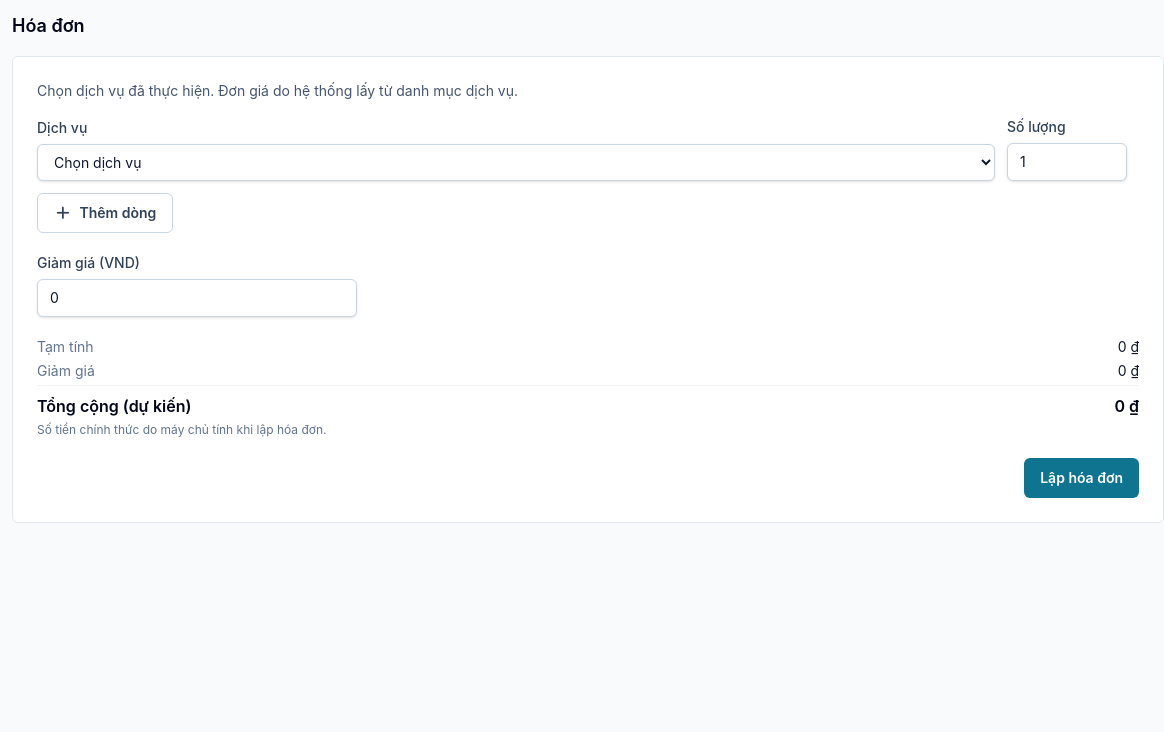
Test: EncounterInvoiceTab › lập hóa đơn lần hai (409) hiện lỗi rồi tải lại để thấy hóa đơn đã có
Select "Siêu âm — 250.000 ₫" in the dropdown with id "inv-service-0" at (516, 162), box x1=37 y1=144 x2=995 y2=181
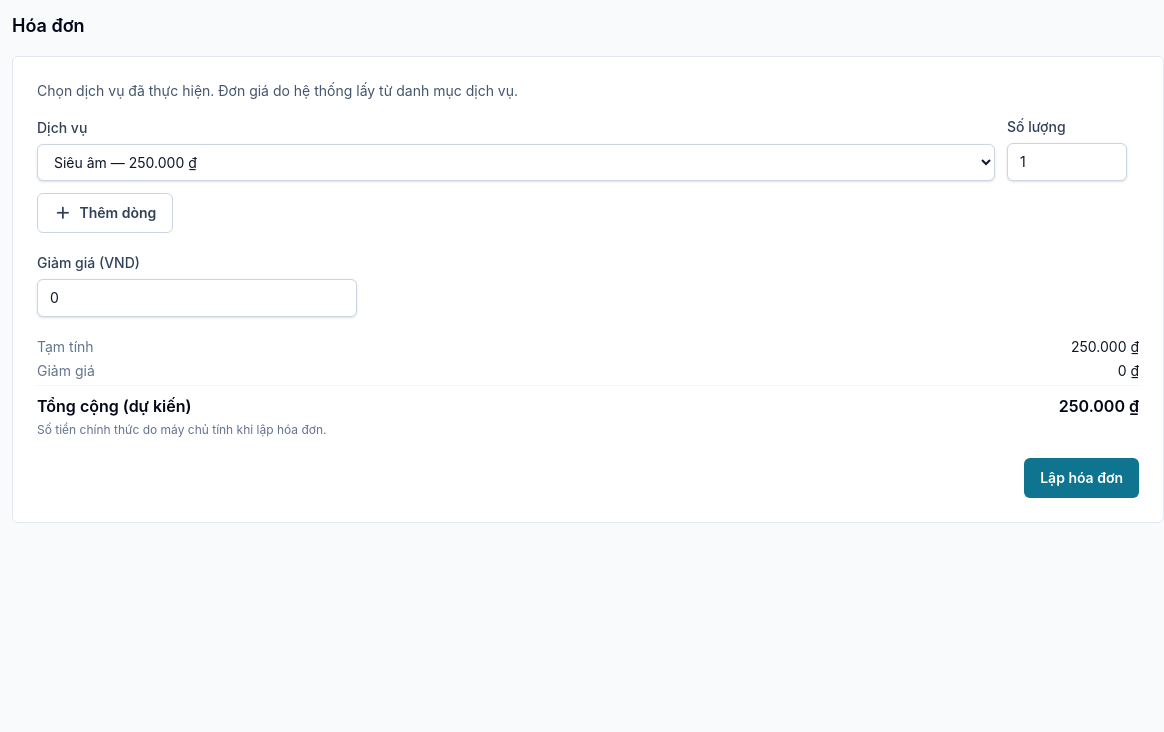
Submit the form with test id "invoice-form"
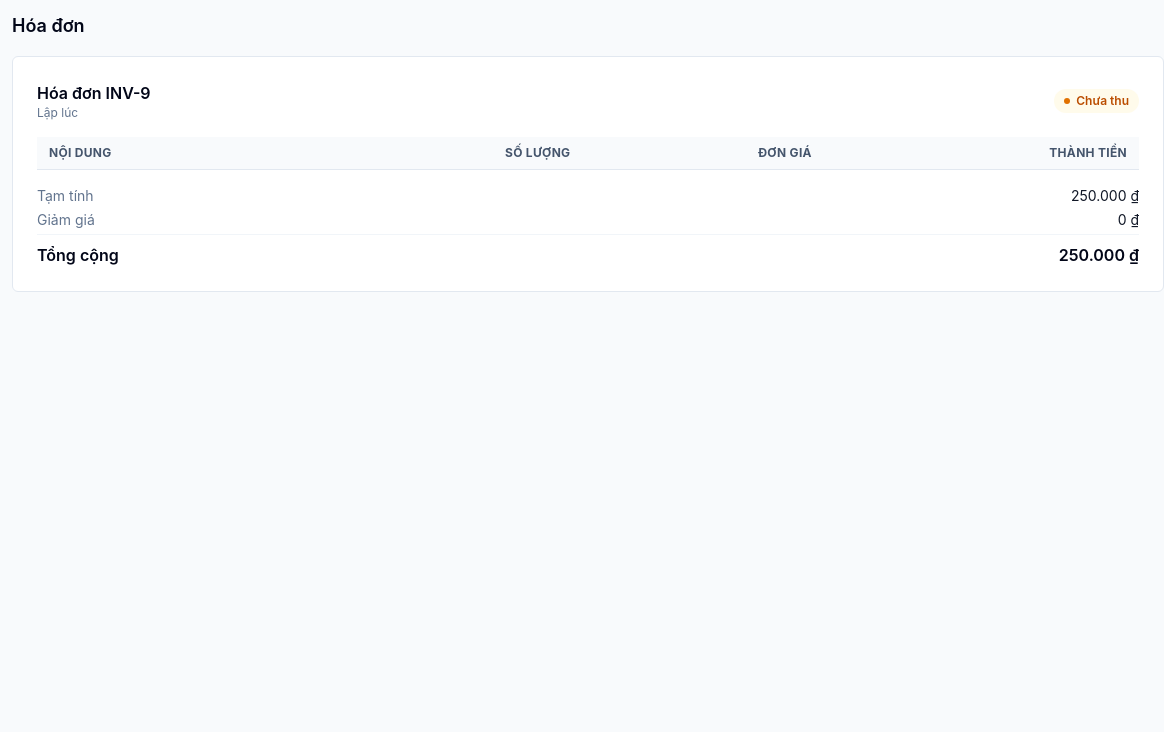
Check: the element with test id "invoice-view" shows "INV-9", box x1=37 y1=83 x2=151 y2=103
